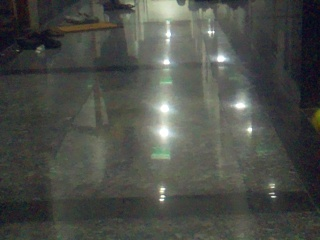ball: (310, 108, 319, 132)
